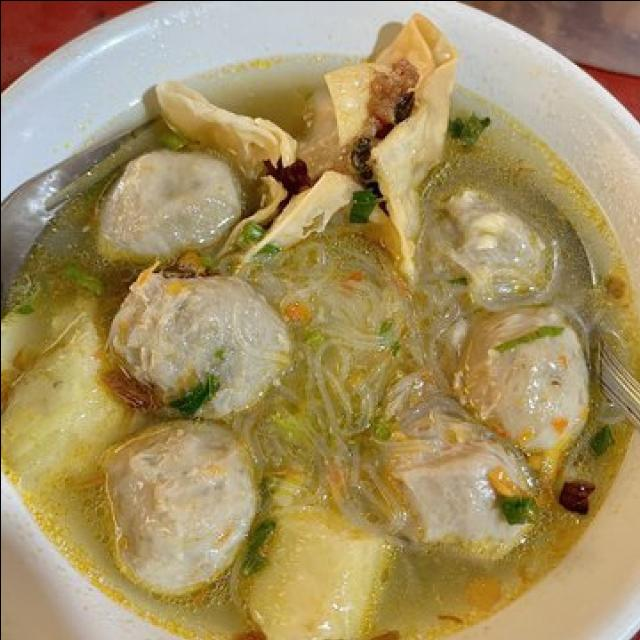bakso: (0, 14, 640, 640)
